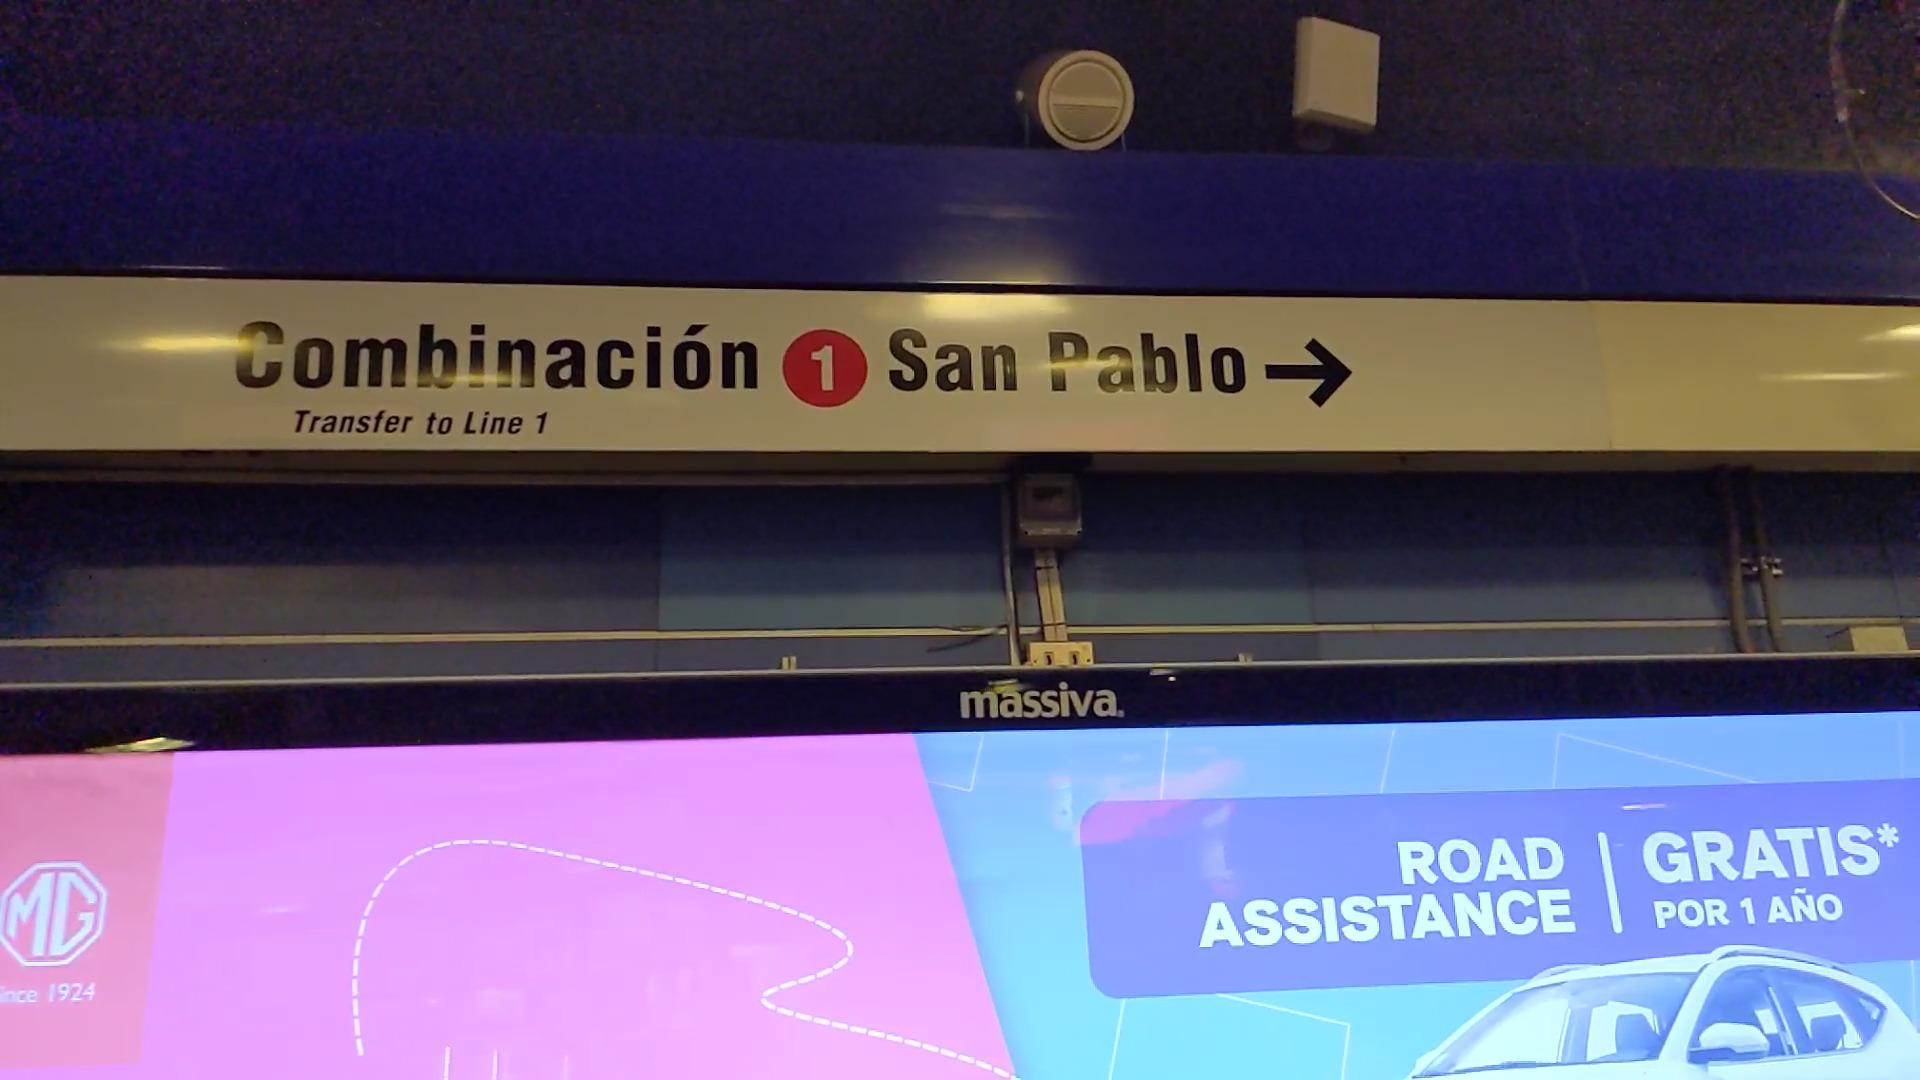right arrow: (1261, 334, 1357, 411)
